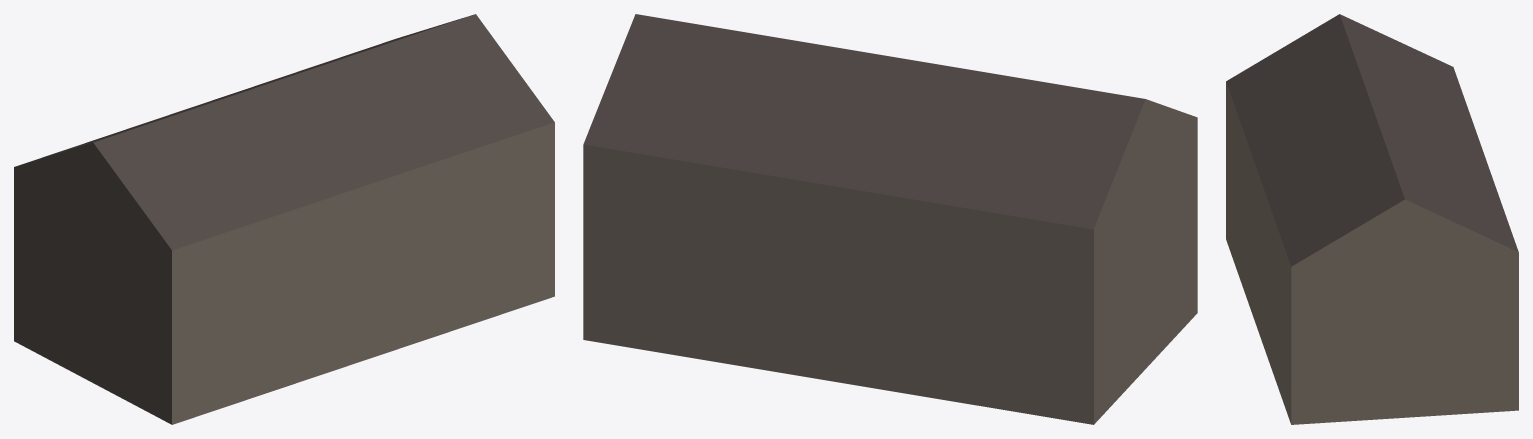
3 renders of one model, left to right at view 1: azimuth 30°, elevation 25°; view 2: azimuth 150°, elevation 25°; view 3: azimuth 270°, elevation 25°, orthographic. The views are drawn at different scales.
Parts seen in each view (by area): view 1: HP-w1376988706; view 2: HP-w1376988706; view 3: HP-w1376988706.
Part boxes in pixels (x1,y1,x2,y2): HP-w1376988706: [14, 14, 554, 424]; HP-w1376988706: [583, 14, 1197, 424]; HP-w1376988706: [1226, 14, 1518, 424].
Size of the model in its own units: 16.27 by 8.28 by 10.07.
